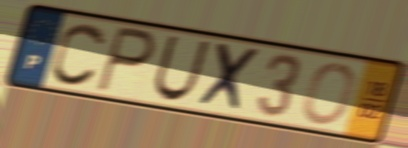3: (255, 51, 305, 121)
C: (49, 20, 110, 89)
O: (299, 61, 359, 127)
P: (93, 23, 159, 97)
U: (150, 33, 213, 103)
X: (194, 40, 264, 116)
